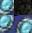mirror: (14, 15, 32, 33), (0, 0, 14, 15)
